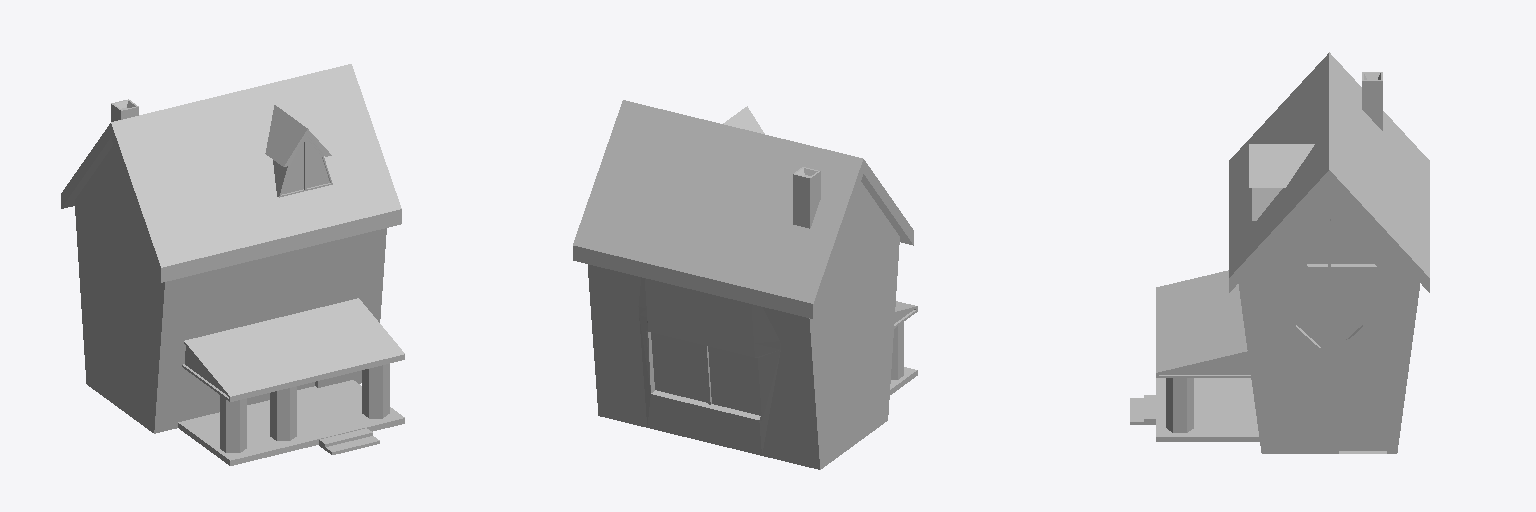
File: house.obj
3 renders of one model, left to right at view 1: azimuth 30°, elevation 25°; view 2: azimuth 150°, elevation 25°; view 3: azimuth 270°, elevation 25°, orthographic.
Visible parts, largest first — view 1: Roof, House, PorchRoof, PorchFloor, RoofWindow, PorchPillar, PorchPillar.001, PorchPillar.002, PorchStairs; view 2: House, Roof, RoofChimney, PorchPillar.001; view 3: House, Roof, PorchRoof, PorchFloor, RoofWindow, PorchPillar, RoofChimney, PorchStairs.
Boxes of the visible parts, box(x1,y1,x2,y2) form: Roof: box(61, 64, 401, 282); House: box(75, 145, 386, 433); PorchRoof: box(182, 298, 404, 401); PorchFloor: box(178, 380, 404, 465); RoofWindow: box(265, 105, 332, 197); PorchPillar: box(362, 364, 389, 418); PorchPillar.001: box(220, 395, 246, 452); PorchPillar.002: box(270, 386, 296, 440); PorchStairs: box(319, 428, 379, 454); House: box(588, 182, 899, 469); Roof: box(573, 100, 913, 318); RoofChimney: box(793, 167, 820, 228); PorchPillar.001: box(891, 322, 903, 379); House: box(1238, 185, 1419, 453); Roof: box(1229, 52, 1429, 292); PorchRoof: box(1156, 270, 1250, 377); PorchFloor: box(1156, 378, 1259, 441); RoofWindow: box(1249, 144, 1314, 220); PorchPillar: box(1166, 378, 1193, 432); RoofChimney: box(1362, 72, 1382, 130); PorchStairs: box(1130, 395, 1155, 424).
Size of the model in its own units: 27.11 by 31.2 by 29.27.